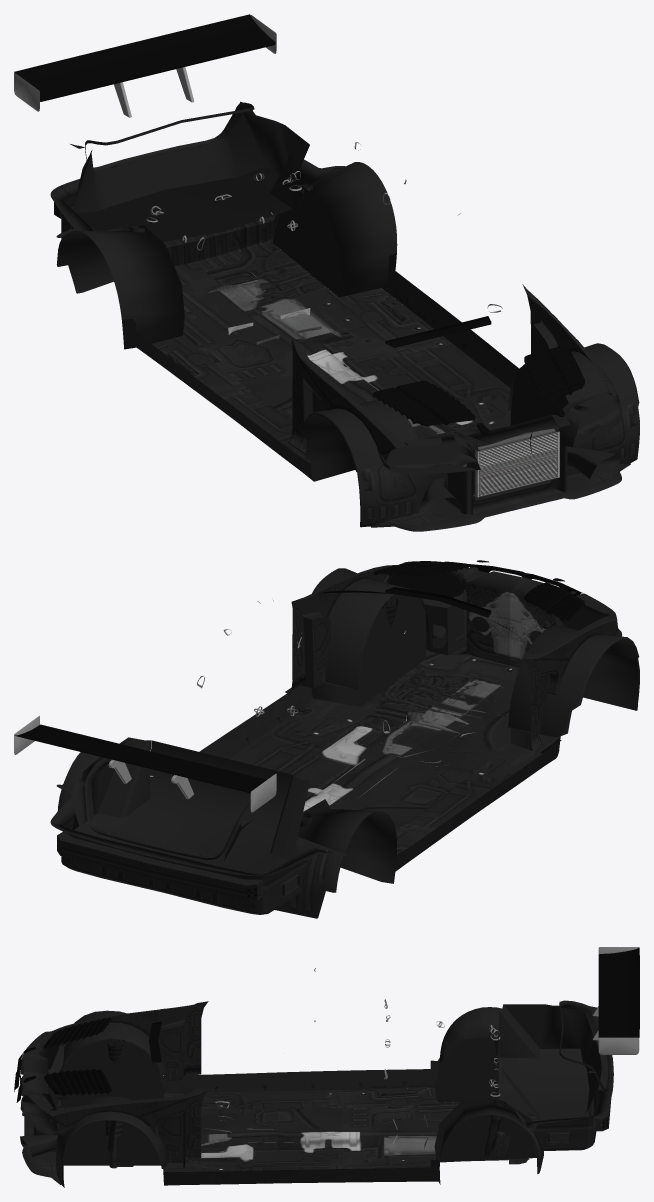
File: bmw_under.fbx
3 renders of one model, top to bottom at view 1: azimuth 30°, elevation 25°; view 2: azimuth 150°, elevation 25°; view 3: azimuth 270°, elevation 25°, orthographic. The views are drawn at different scales.
Parts seen in each view (by area): view 1: CHASSIS_SUB1_chassis_0; view 2: CHASSIS_SUB1_chassis_0; view 3: CHASSIS_SUB1_chassis_0.
Part boxes in pixels (left/top/right/bottom): CHASSIS_SUB1_chassis_0: left=14, top=14, right=639, bottom=531; CHASSIS_SUB1_chassis_0: left=14, top=560, right=639, bottom=918; CHASSIS_SUB1_chassis_0: left=14, top=947, right=639, bottom=1187.
Size of the model in its own units: 190 by 124 by 454.
